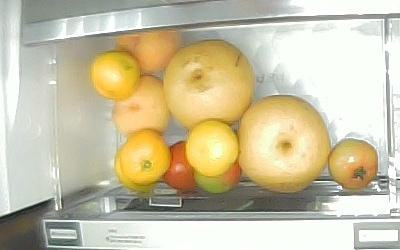peach: (112, 76, 169, 134), (114, 30, 179, 74)
pear: (237, 94, 328, 192), (162, 39, 254, 127)
tangerine: (186, 120, 237, 175), (120, 130, 170, 184), (91, 49, 139, 100)
tomato: (328, 137, 378, 188), (162, 140, 196, 192), (192, 160, 241, 193)
